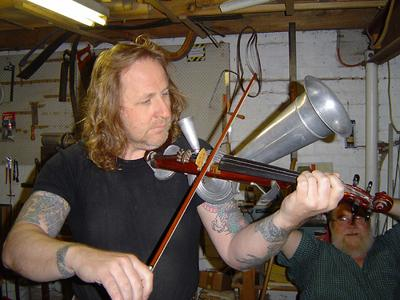person: (2, 36, 344, 300)
